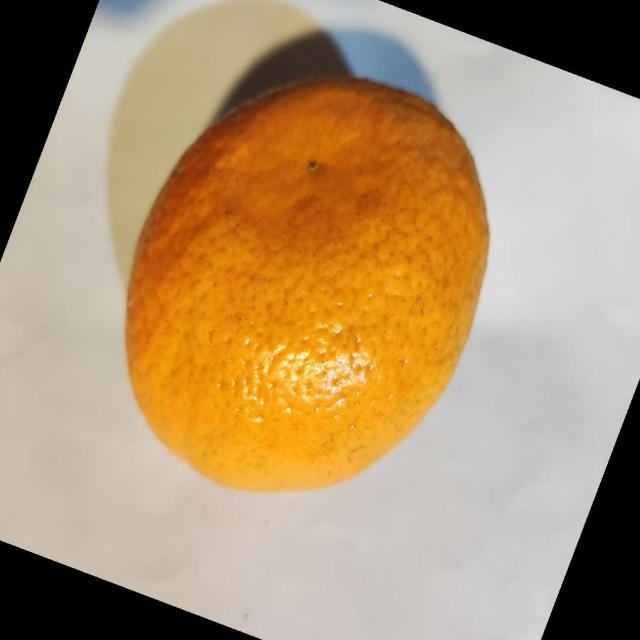agrume: (123, 74, 490, 493)
